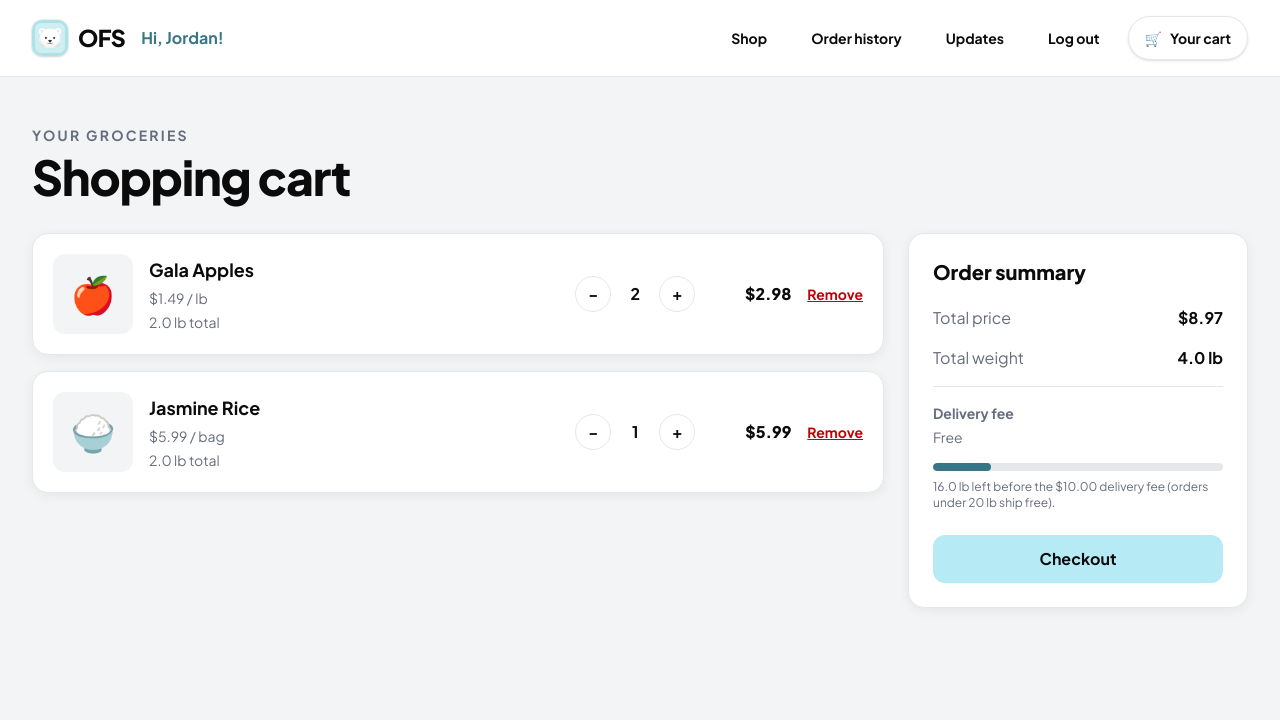
Test case: cart totals › removes an item and drops it from the totals
Expected: the heading "Jasmine Rice" is shown, [149, 396, 260, 419]
Click the button "Remove" in the row of "bag".
click(835, 432)  # box [807, 422, 863, 442]
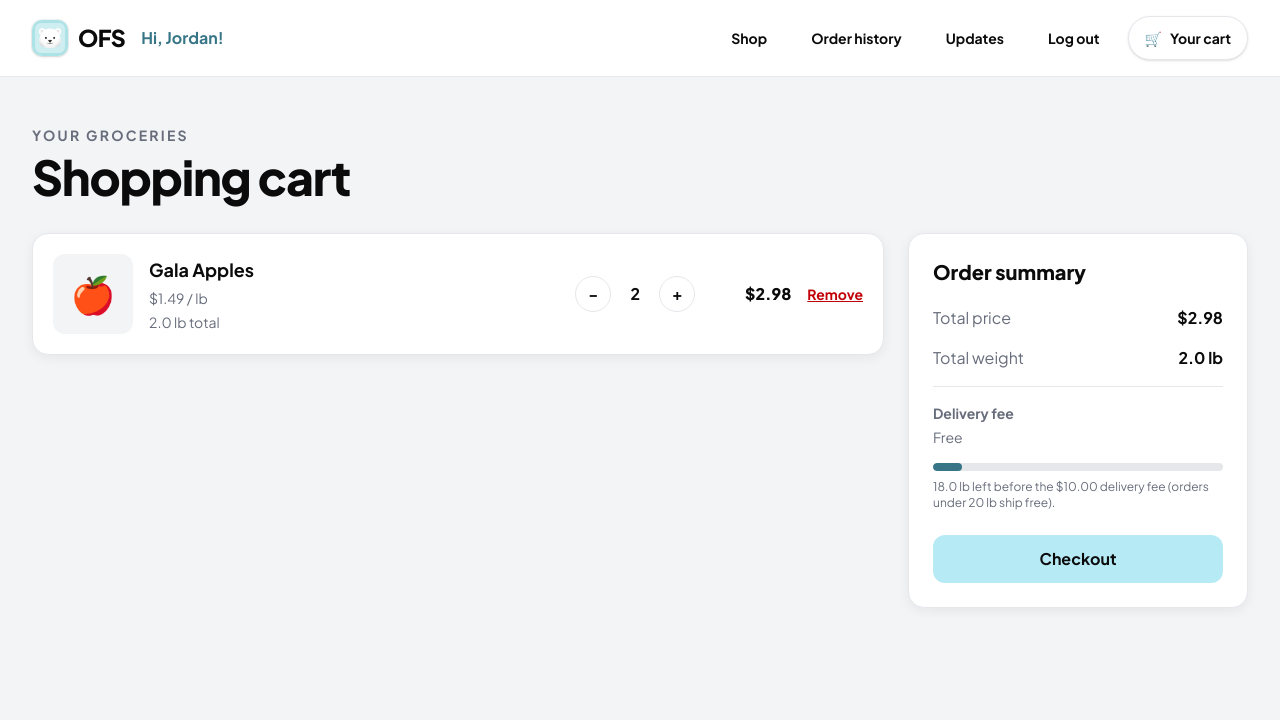
Result: the heading "Jasmine Rice" is gone
